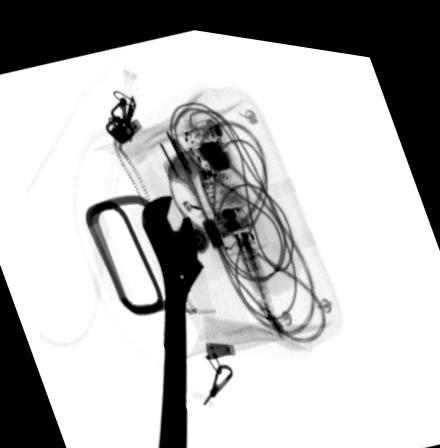Wrench: (139, 186, 205, 448)
